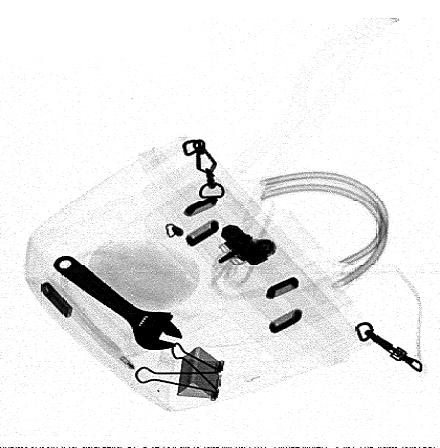Wrench: (52, 255, 183, 351)
